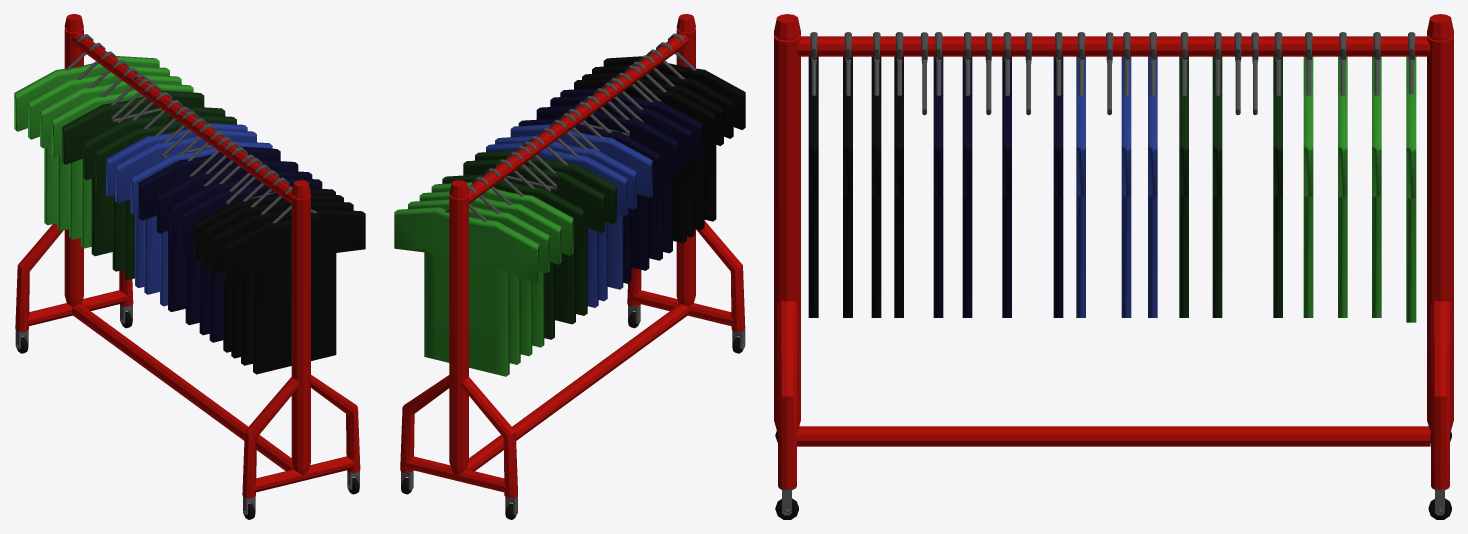
The model's file is Clothes_Tshirt Rack.fbx.
3 renders of one model, left to right at view 1: azimuth 30°, elevation 25°; view 2: azimuth 150°, elevation 25°; view 3: azimuth 270°, elevation 25°, orthographic. The views are drawn at different scales.
Visible parts, largest first — view 1: pasted__pCube97; view 2: pasted__pCube97; view 3: pasted__pCube97.
Boxes of the visible parts, x1,y1,x2,y2 form: pasted__pCube97: (14,14,365,519); pasted__pCube97: (394,14,745,519); pasted__pCube97: (774,14,1453,519).
Size of the model in its own units: 1.55 by 3.38 by 4.48.
